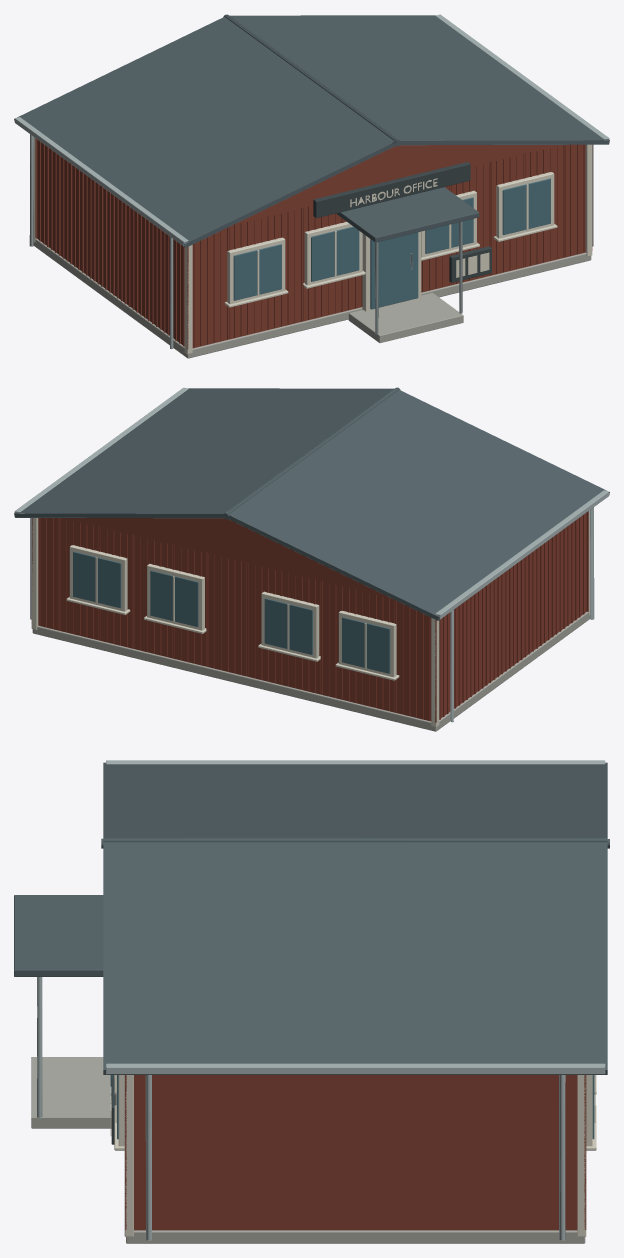
The model's file is harbour_office_lod1.glb.
3 renders of one model, top to bottom at view 1: azimuth 30°, elevation 25°; view 2: azimuth 150°, elevation 25°; view 3: azimuth 270°, elevation 25°, orthographic. The views are drawn at different scales.
Parts seen in each view (by area): view 1: harbour_office_lod1; view 2: harbour_office_lod1; view 3: harbour_office_lod1.
Part boxes in pixels (x1,y1,x2,y2): harbour_office_lod1: (14, 14, 609, 358); harbour_office_lod1: (14, 387, 609, 731); harbour_office_lod1: (14, 760, 609, 1243).
Size of the model in its own units: 12.66 by 4.99 by 10.38.
